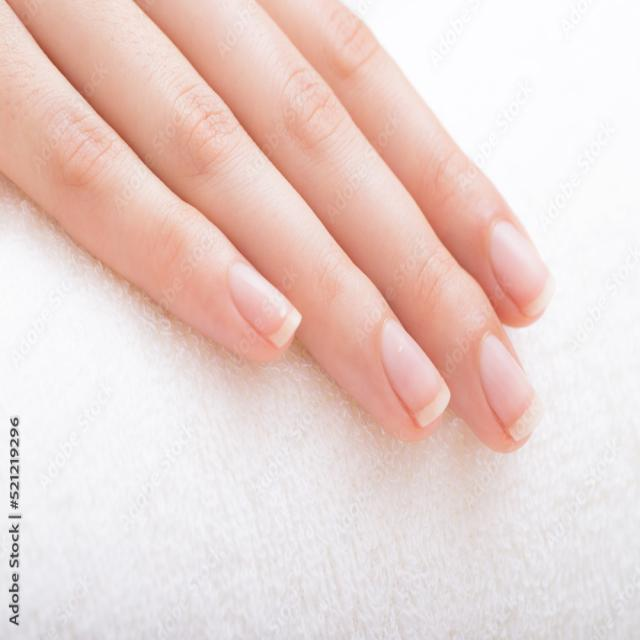Fingernail: (479, 331, 549, 444), (384, 319, 453, 428), (230, 260, 303, 350), (491, 223, 560, 317)
